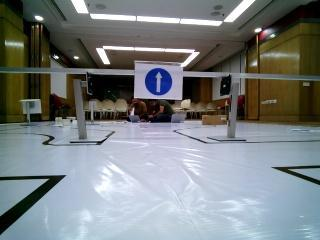straight: (133, 59, 182, 98)
